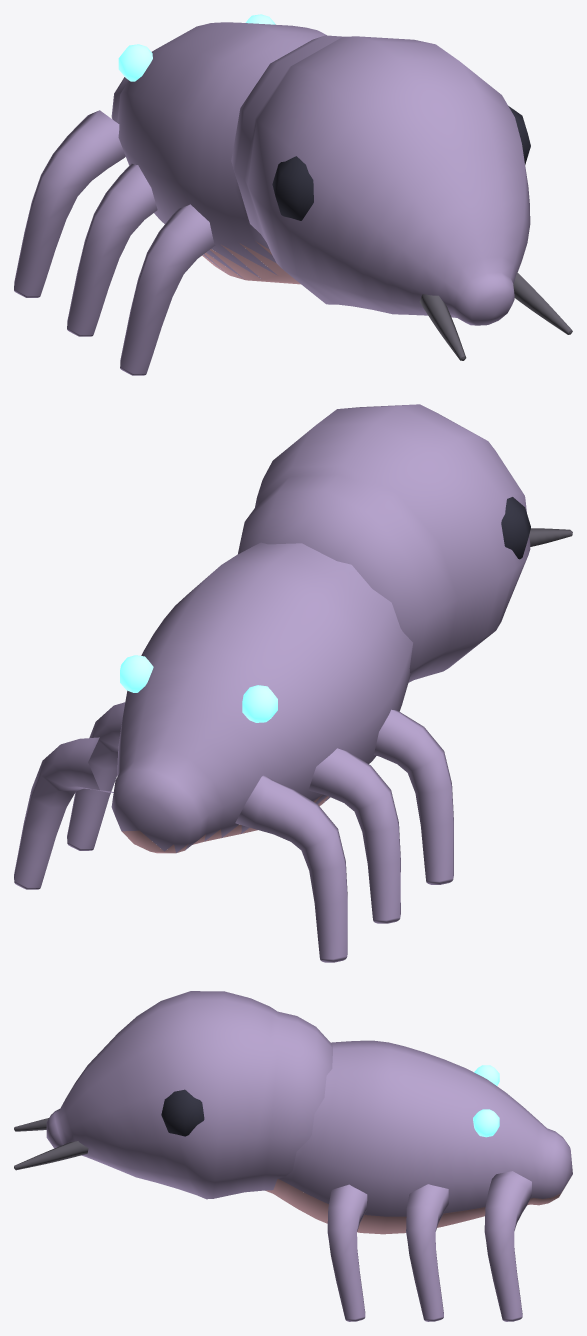
Rendered from xeno-species-and-alien-creatures-insectoid-hatchling-46744c20__21132.glb.
3 renders of one model, top to bottom at view 1: azimuth 30°, elevation 25°; view 2: azimuth 150°, elevation 25°; view 3: azimuth 270°, elevation 25°, orthographic. The views are drawn at different scales.
Visible parts, largest first — view 1: insectoid-hatchling; view 2: insectoid-hatchling; view 3: insectoid-hatchling.
Part boxes in pixels (x1,y1,x2,y2): insectoid-hatchling: (14, 14, 572, 375); insectoid-hatchling: (14, 404, 572, 962); insectoid-hatchling: (14, 991, 572, 1321).
Size of the model in its own units: 0.4351 by 0.448 by 0.8539.
